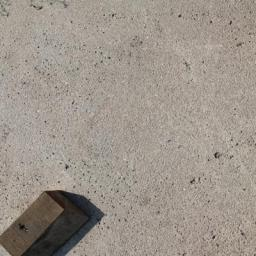FOD: (2, 187, 100, 256)
